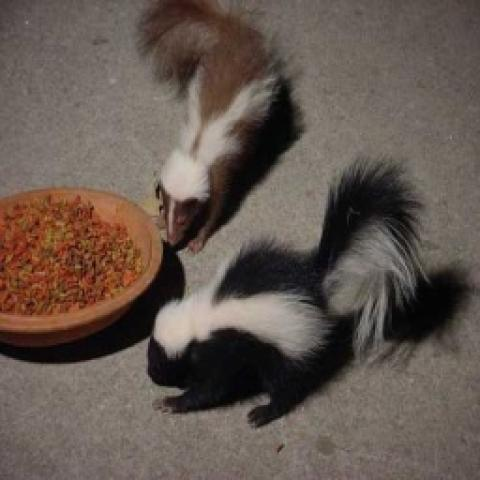small_animal: (146, 163, 432, 430), (125, 4, 277, 254)
